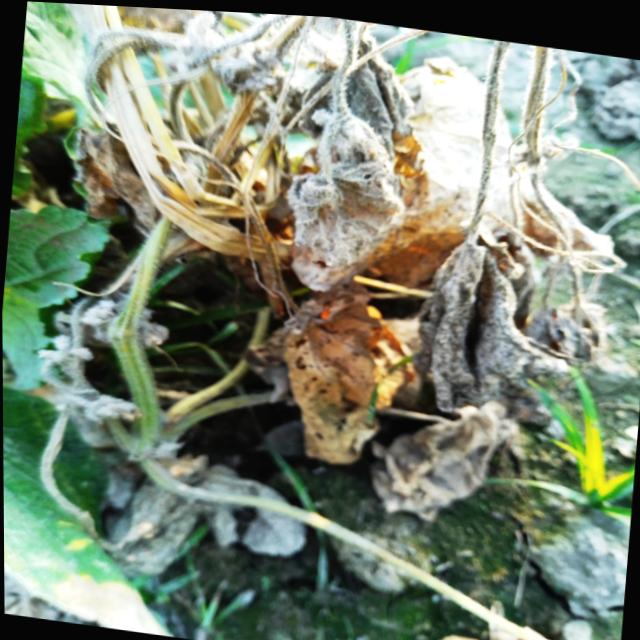Bacterial-Wilt: (236, 16, 441, 472), (412, 231, 570, 410)
